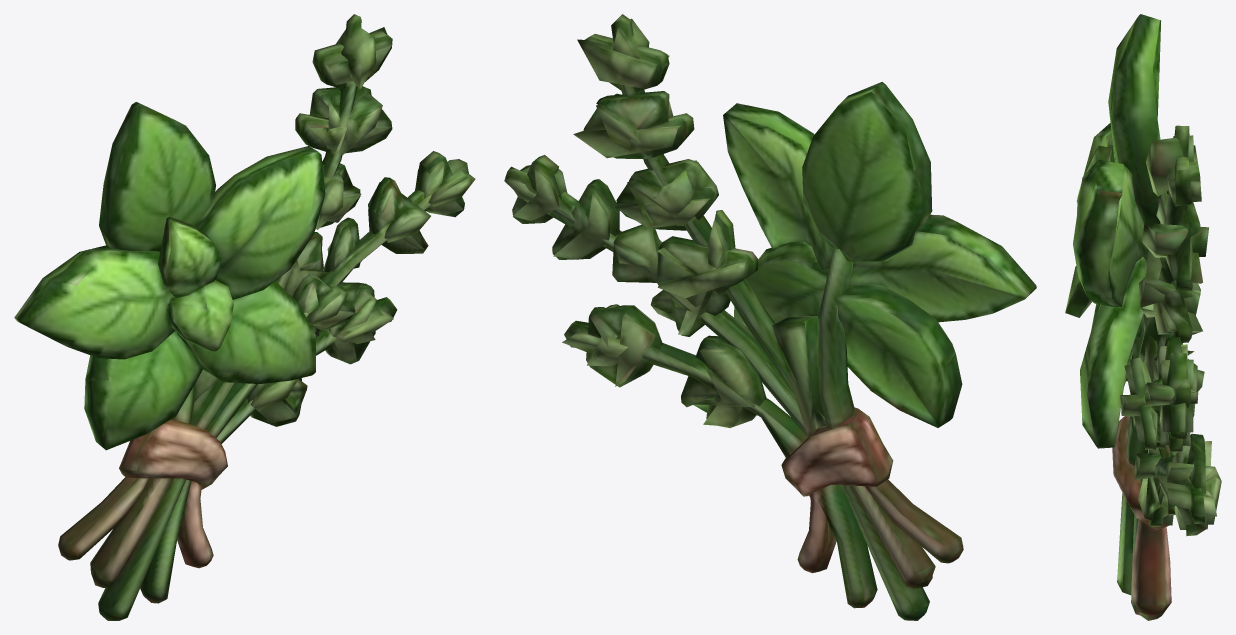
The model's file is item-herbs.glb.
3 views of the same model, side by side, from view 1: azimuth 30°, elevation 25°; view 2: azimuth 150°, elevation 25°; view 3: azimuth 270°, elevation 25° (orthographic). The views are drawn at different scales.
Bounding box in the file's own units: 0.8994 × 0.9551 × 0.2183.
Materials: 1 (1 with a texture image).
